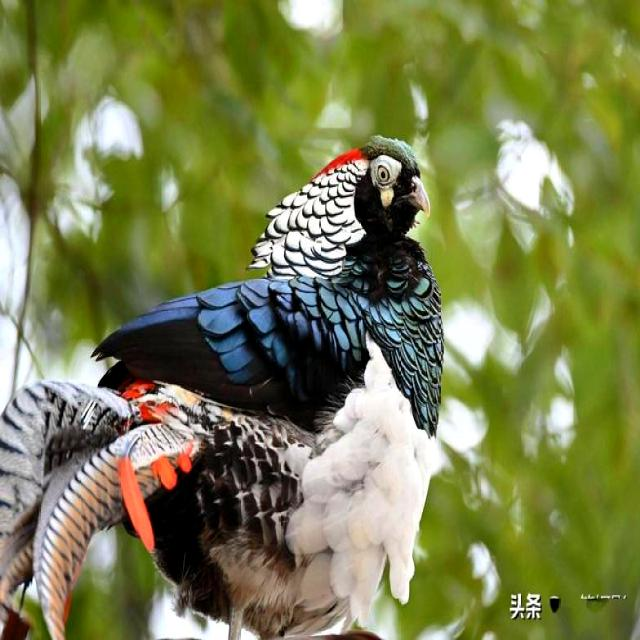Chrysolophus amherstiae: (0, 381, 309, 639)
